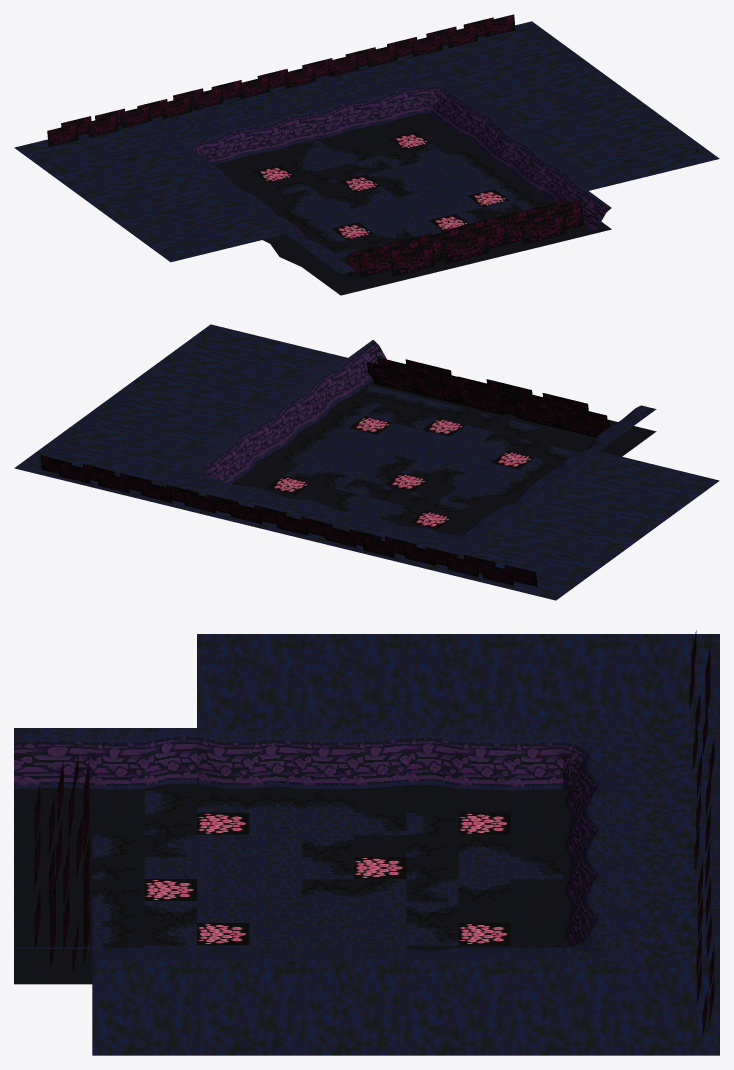
The picture shows the model from 3 angles, top to bottom: view 1: azimuth 30°, elevation 25°; view 2: azimuth 150°, elevation 25°; view 3: azimuth 270°, elevation 25°; orthographic projection. The views are drawn at different scales.
Parts seen in each view (by area): view 1: kami; view 2: kami; view 3: kami.
Boxes of the visible parts, <box> form: kami: <box>14,14,719,295</box>; kami: <box>14,324,719,600</box>; kami: <box>14,630,719,1055</box>.
Bounding box in the file's own units: 9.55 × 0.6497 × 6.75.
8 materials, 8 textured.
